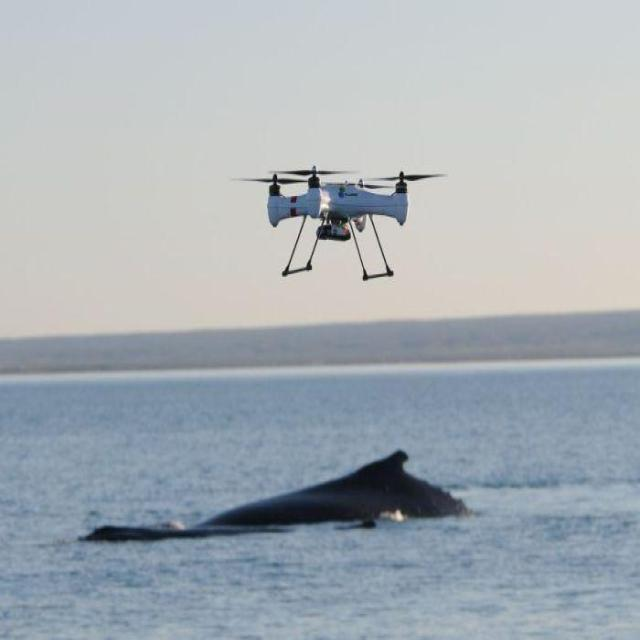drone: (231, 164, 448, 282)
